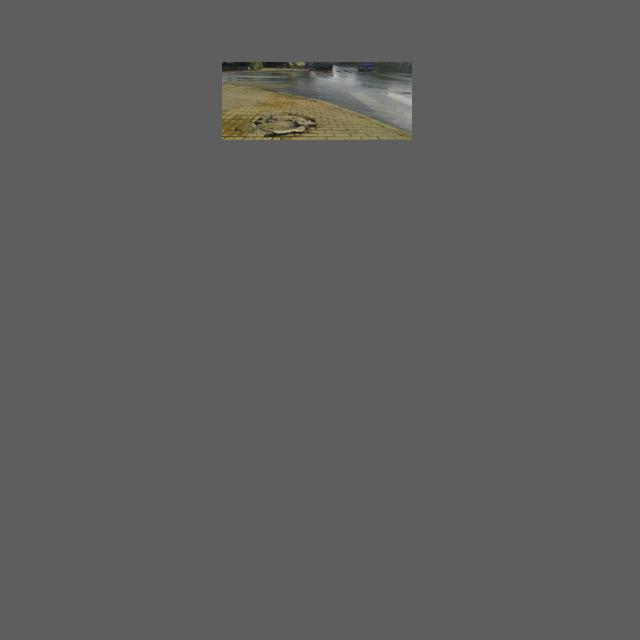circle: (247, 111, 316, 135)
